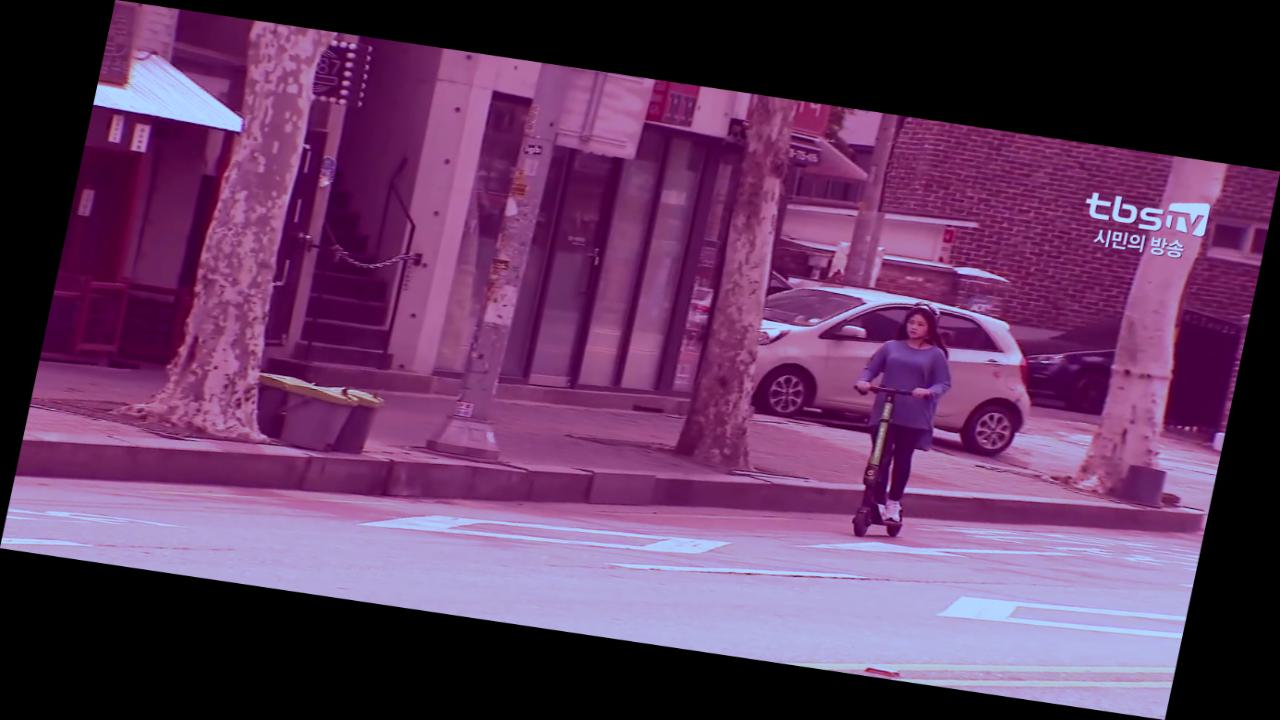helmet: (823, 292, 972, 548)
